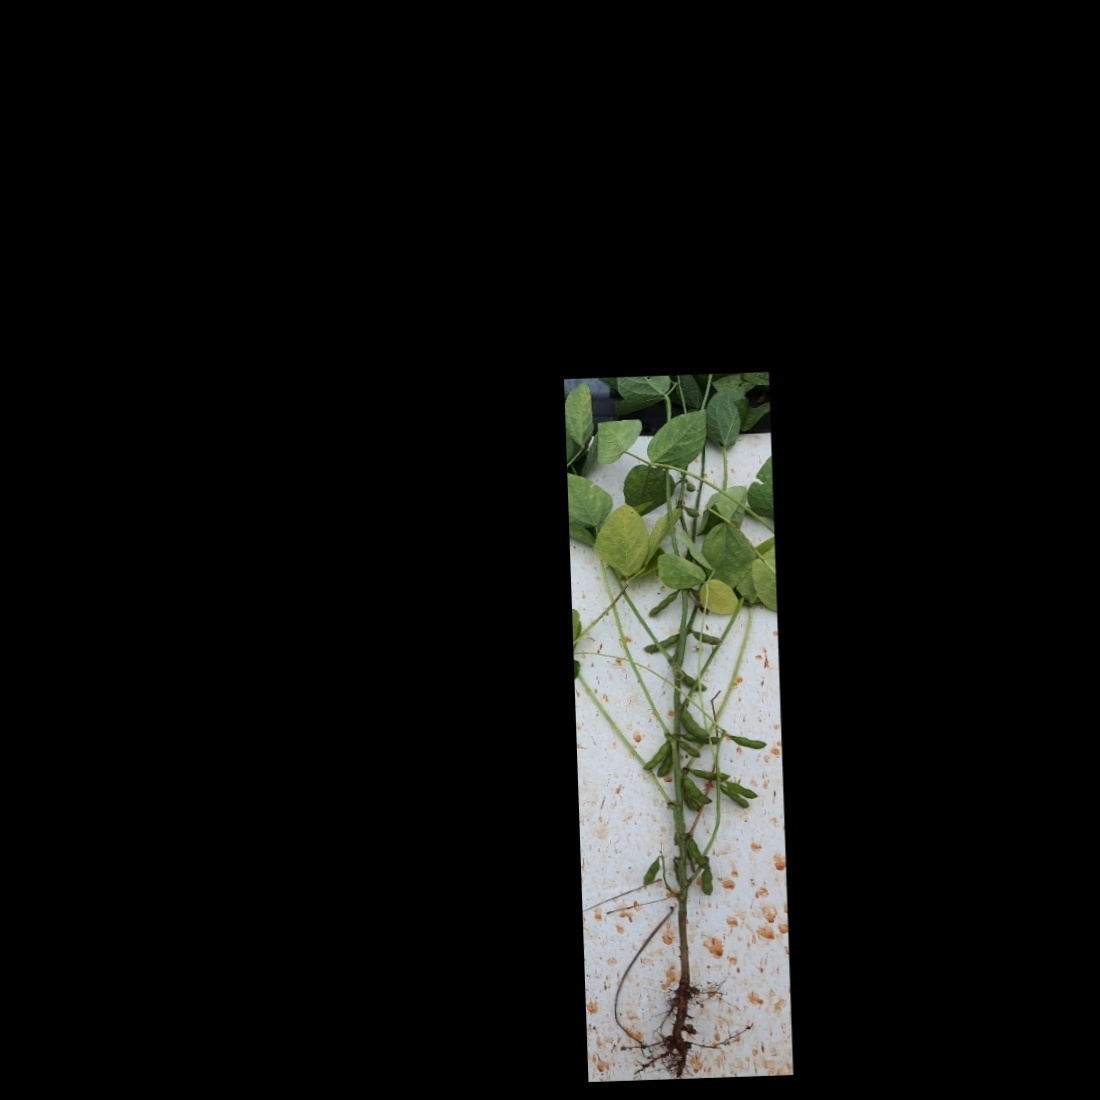pod: (644, 589, 680, 617), (685, 762, 731, 783), (639, 855, 664, 891), (687, 834, 711, 871), (724, 729, 767, 750), (642, 632, 683, 652), (678, 666, 707, 693), (689, 627, 725, 646), (699, 864, 715, 900), (676, 740, 704, 761), (655, 751, 675, 778)
soy: (582, 418, 778, 1060)
